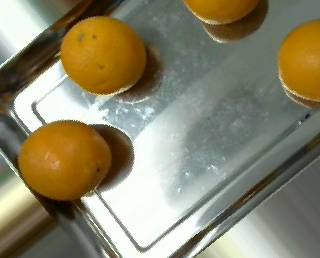Orange: (18, 119, 112, 199), (60, 15, 146, 95)
